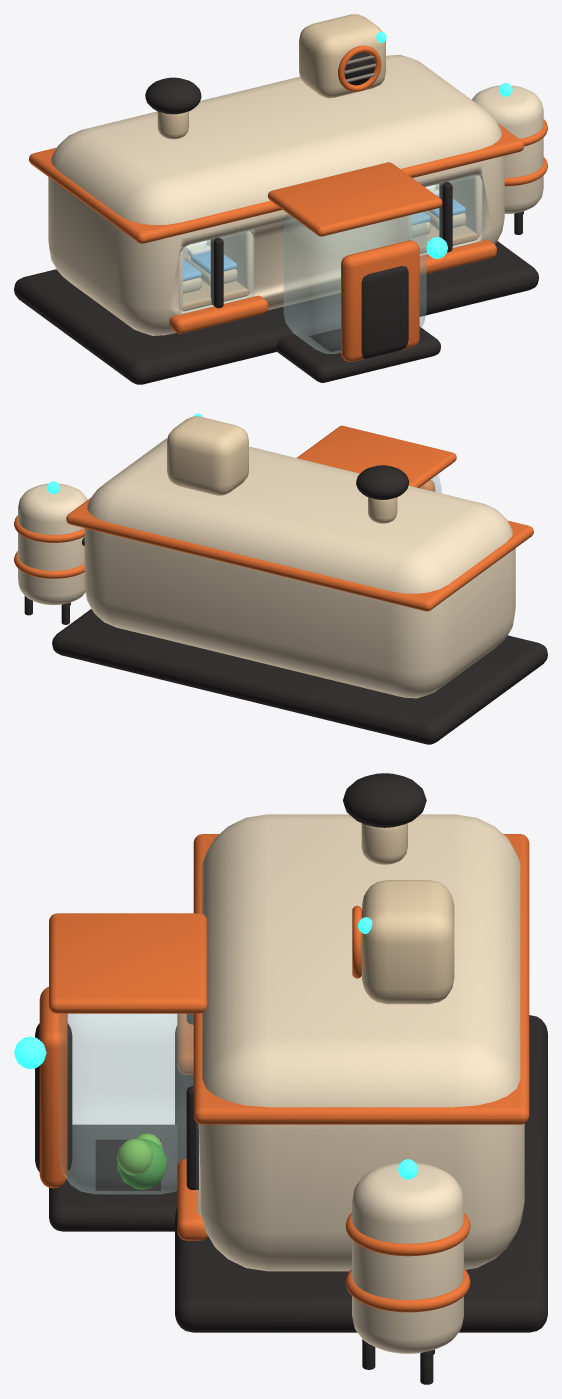
Rendered from home-c-1.glb.
3 views of the same model, one above another, from view 1: azimuth 30°, elevation 25°; view 2: azimuth 150°, elevation 25°; view 3: azimuth 270°, elevation 25° (orthographic). The views are drawn at different scales.
Parts seen in each view (by area): view 1: Cube.001, Cube, Cube.030, Cube.031, Cube.002, Cube.032, Cylinder.005, Cube.013, Cube.034, Cube.029, Cube.033, Cube.026 (+13 smaller); view 2: Cube.001, Cube, Cube.002, Cylinder.005, Cube.034, Cube.031, Sphere.007, Cylinder.001, Torus.001, Torus.002; view 3: Cube.001, Cube, Cube.030, Cylinder.005, Cube.031, Cube.002, Cube.034, Cube.029, Cube.032, Sphere.007, Torus.001, Torus.002 (+8 smaller).
Part boxes in pixels (<box>): Cube.001: <box>48,54,504,335</box>; Cube: <box>14,241,538,384</box>; Cube.030: <box>283,212,426,353</box>; Cube.031: <box>267,162,442,236</box>; Cube.002: <box>29,123,524,243</box>; Cube.032: <box>341,240,419,361</box>; Cylinder.005: <box>472,85,543,213</box>; Cube.013: <box>178,230,254,314</box>; Cube.034: <box>299,14,385,98</box>; Cube.029: <box>276,323,440,382</box>; Cube.033: <box>361,266,408,358</box>; Cube.026: <box>412,174,483,255</box>; Cube.001: <box>84,438,515,698</box>; Cube: <box>52,609,547,744</box>; Cube.002: <box>66,498,533,611</box>; Cylinder.005: <box>18,483,87,605</box>; Cube.034: <box>167,416,248,495</box>; Cube.031: <box>297,425,456,487</box>; Sphere.007: <box>356,465,409,499</box>; Cylinder.001: <box>368,497,397,523</box>; Torus.001: <box>14,551,84,578</box>; Torus.002: <box>14,515,84,542</box>; Cube.001: <box>198,814,524,1271</box>; Cube: <box>175,1015,547,1332</box>; Cube.030: <box>58,1013,193,1194</box>; Cylinder.005: <box>352,1163,463,1353</box>; Cube.031: <box>49,913,207,1013</box>; Cube.002: <box>193,834,529,1124</box>; Cube.034: <box>362,880,454,1004</box>; Cube.029: <box>49,1124,177,1231</box>; Cube.032: <box>39,987,67,1188</box>; Sphere.007: <box>343,773,426,827</box>; Torus.001: <box>345,1269,470,1312</box>; Torus.002: <box>345,1213,470,1256</box>.
Size of the model in its own units: 1.78 by 0.836 by 1.15.
